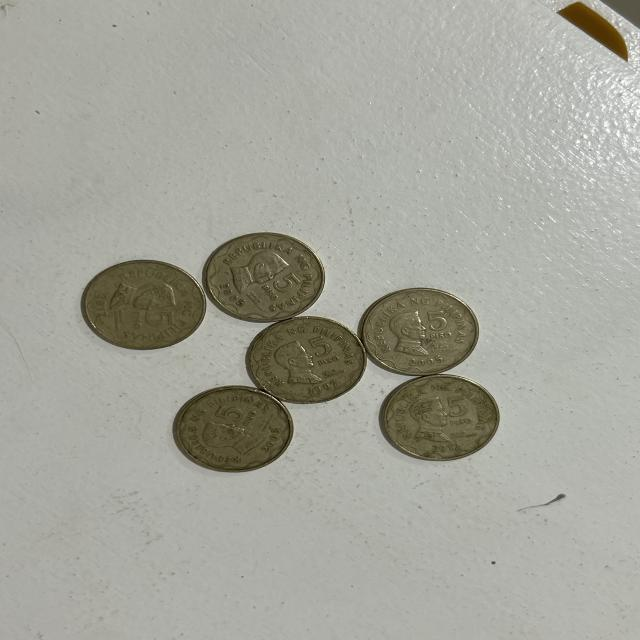5_Old_Front: (294, 338, 349, 381), (127, 304, 187, 338), (256, 269, 309, 303), (208, 402, 266, 431), (422, 306, 462, 348), (446, 391, 476, 429)
